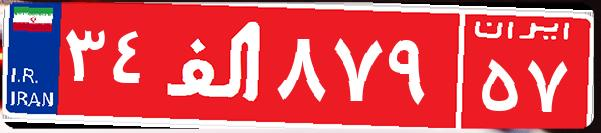3: (57, 26, 110, 107)
4: (110, 28, 158, 105)
5: (475, 38, 525, 113)
7: (330, 28, 385, 110), (525, 38, 570, 115)
8: (273, 28, 330, 110)
9: (385, 28, 445, 110)
الف: (158, 15, 273, 115)
